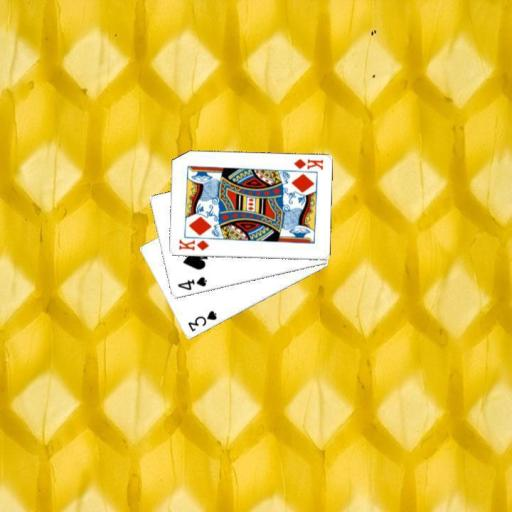card-corner: (185, 307, 218, 333), (174, 274, 208, 292), (176, 236, 210, 252), (290, 156, 324, 171)
